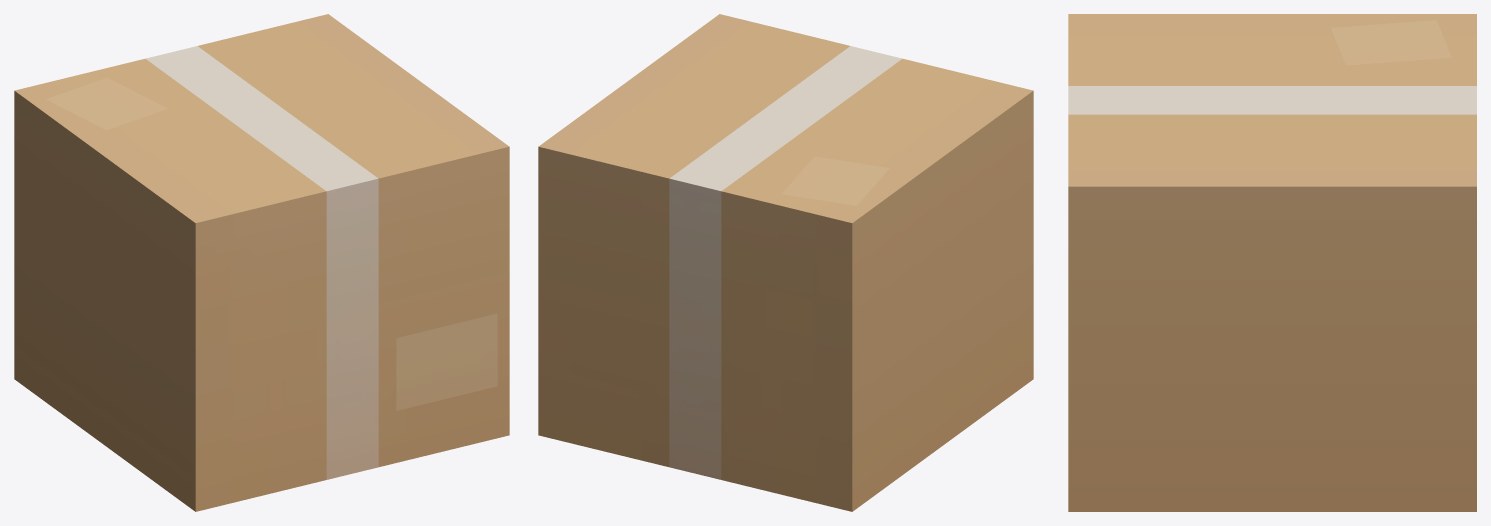
3 views of the same model, side by side, from view 1: azimuth 30°, elevation 25°; view 2: azimuth 150°, elevation 25°; view 3: azimuth 270°, elevation 25° (orthographic). The views are drawn at different scales.
Visible parts, largest first — view 1: box_A; view 2: box_A; view 3: box_A.
Part boxes in pixels (x1,y1,x2,y2): box_A: (14,14,509,511); box_A: (538,14,1033,511); box_A: (1068,14,1476,511).
Bounding box in the file's own units: 0.2 × 0.1764 × 0.2031.
1 material, 1 textured.
